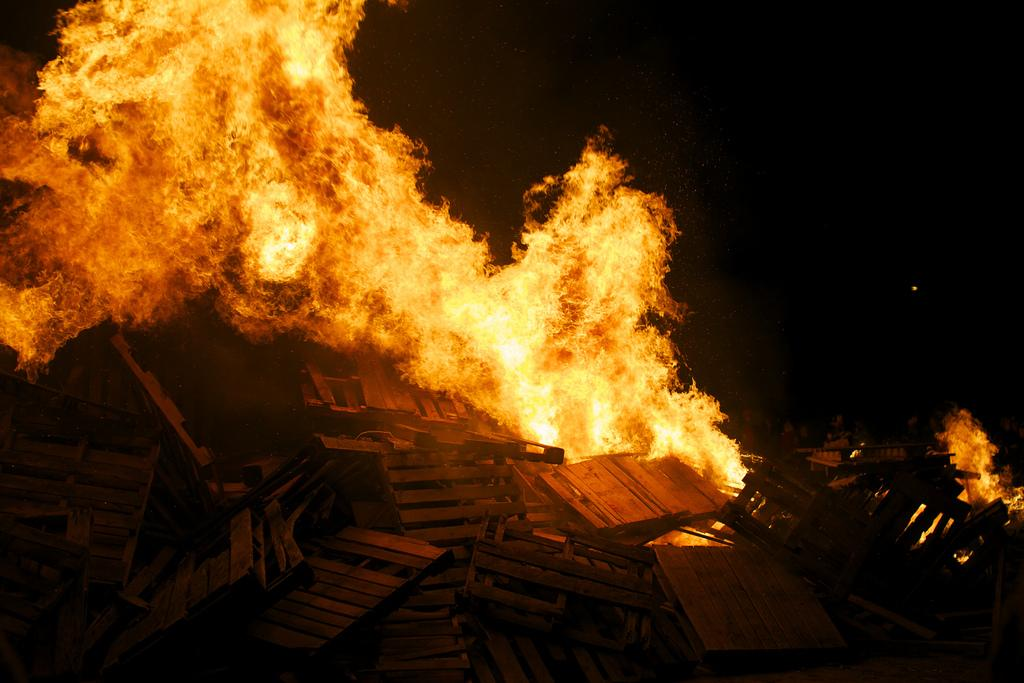fire: (95, 10, 328, 190), (528, 238, 660, 438), (343, 240, 480, 332)
